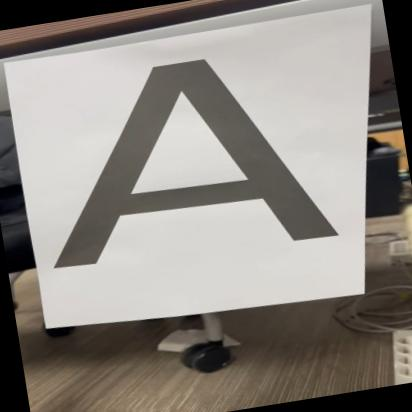seat: (30, 35, 345, 280)
